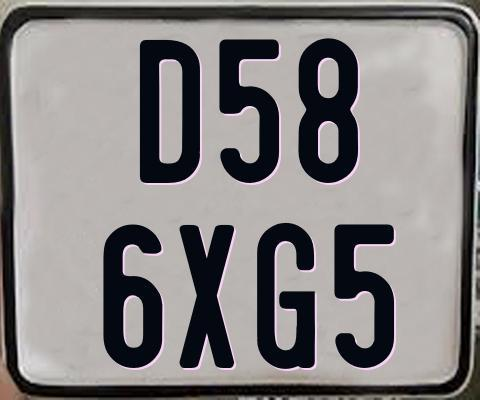5: (332, 223, 398, 368), (219, 39, 282, 188)
6: (103, 221, 164, 371)
8: (296, 38, 362, 184)
D: (140, 37, 204, 186)
G: (254, 223, 312, 370)
X: (176, 223, 233, 366)
